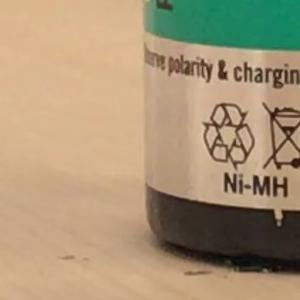keyword: (214, 166, 298, 203)
